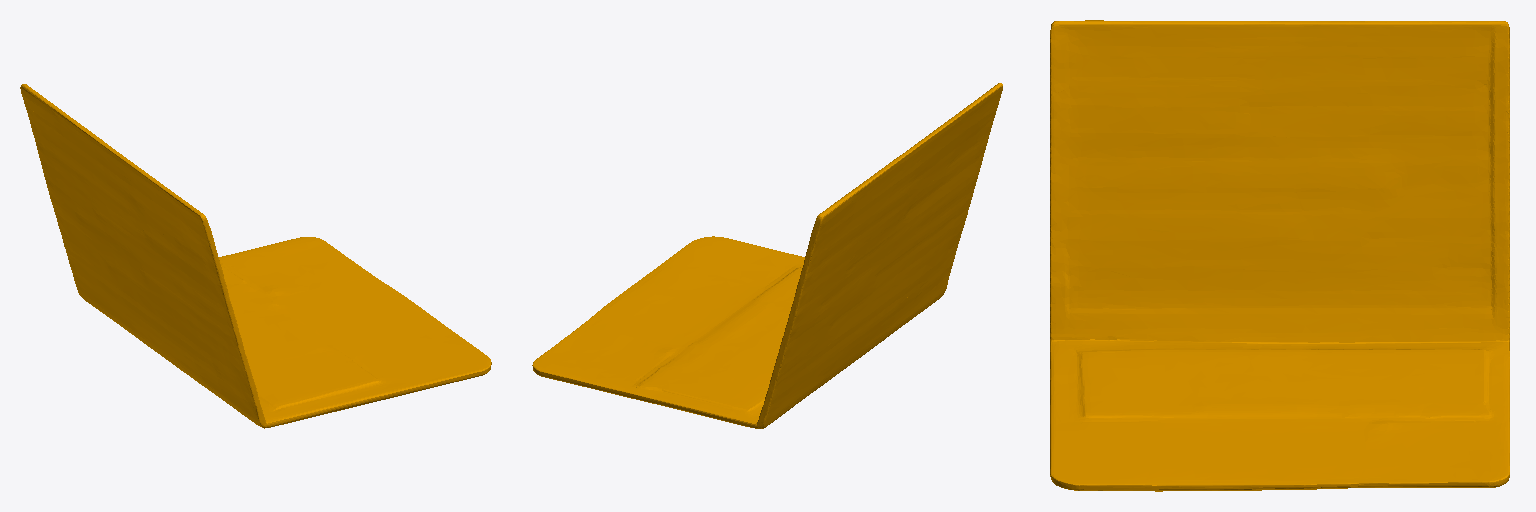
URDF robot description (sample):
<?xml version="1.0" ?>
<robot name="sample">
   <link name="sample">
      <visual>
         <origin xyz="0 0 0" rpy="1.5708 0.0 0.0"/>
         <geometry>
            <mesh filename="mesh/sample.obj" scale="1.0 1.0 1.0"/>
         </geometry>
      </visual>
      <collision>
         <origin xyz="0 0 0" rpy="1.5708 0.0 0.0"/>
         <geometry>
            <mesh filename="mesh/sample_collision.obj" scale="1.0 1.0 1.0"/>
         </geometry>
         <gazebo>
            <mu1>0.70</mu1>
            <mu2>0.55</mu2>
         </gazebo>
      </collision>
      <inertial>
         <mass value="1.7500"/>
         <origin xyz="0 0 0"/>
         <inertia ixx="1.0" ixy="0.0" ixz="0.0" iyy="1.0" iyz="0.0" izz="1.0"/>
      </inertial>
      <extra_info>
         <scale>0.458018</scale>
         <version>v0.1.7</version>
         <category>laptop</category>
         <description>silver laptop with black screen and keyboard</description>
         <min_height>0.3</min_height>
         <max_height>0.35</max_height>
         <real_height>0.325</real_height>
         <min_mass>1.5</min_mass>
         <max_mass>2.0</max_mass>
         <generate_time>20260312170259</generate_time>
         <gs_model>mesh/sample_gs.ply</gs_model>
      </extra_info>
   </link>
   <custom_data>
      <quality>
         <MeshGeoChecker>YES</MeshGeoChecker>
         <ImageSegChecker>NO, segmentation failed — only laptop extracted, other objects missing, incomplete and misaligned.</ImageSegChecker>
         <ImageAestheticChecker>5.005792856216431</ImageAestheticChecker>
         <overall>NO</overall>
      </quality>
   </custom_data>
</robot>

--- Facts derived from the render (not from the file) ---
The picture shows the robot from 3 angles, left to right: view 1: azimuth 30°, elevation 25°; view 2: azimuth 150°, elevation 25°; view 3: azimuth 270°, elevation 25°; orthographic projection.
Robot: sample — 1 links, 0 joints (none); root link sample; default pose: all joints at 0.
Visible links, largest first — view 1: sample; view 2: sample; view 3: sample.
Link boxes in pixels (<box>): sample: <box>20,84,491,428</box>; sample: <box>532,83,1002,428</box>; sample: <box>1050,20,1509,491</box>.
Bounding box of the posed robot: 0.4351 × 0.458 × 0.325 m (x, y, z).
Meshes: 1 distinct files referenced, 1 mesh visuals loaded (1 OBJ).
